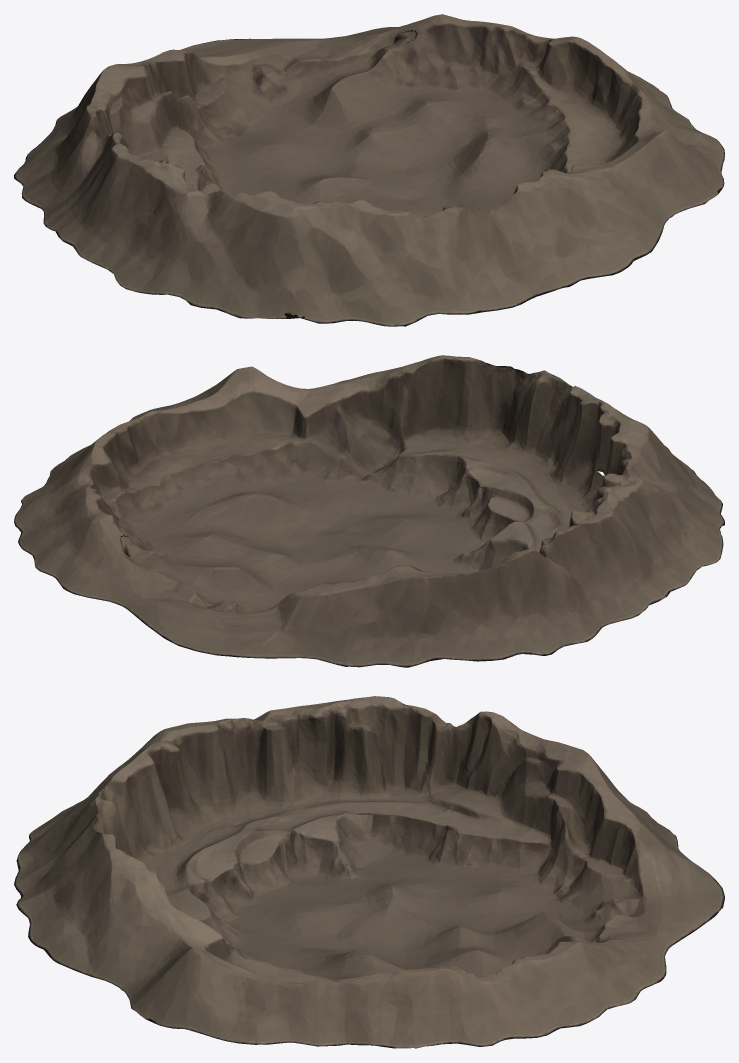
The picture shows the model from 3 angles, top to bottom: view 1: azimuth 30°, elevation 25°; view 2: azimuth 150°, elevation 25°; view 3: azimuth 270°, elevation 25°; orthographic projection. The views are drawn at different scales.
Visible parts, largest first — view 1: geometry_0; view 2: geometry_0; view 3: geometry_0, CALDERA_A_TOP.
Part boxes in pixels (x1,y1,x2,y2): geometry_0: [14, 14, 724, 326]; geometry_0: [14, 355, 724, 667]; geometry_0: [14, 696, 724, 1048]; CALDERA_A_TOP: [343, 814, 373, 839].
Bounding box in the file's own units: 1 × 0.1658 × 0.9875.
Materials: 9 (1 with a texture image).
